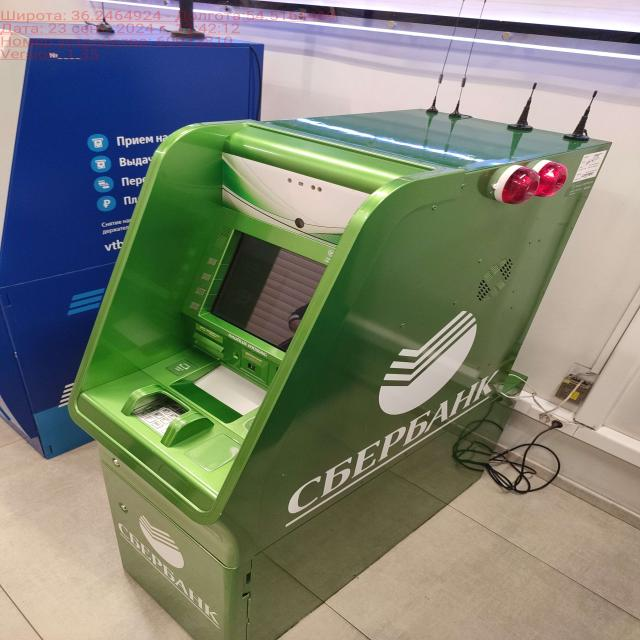bank: (68, 107, 612, 640)
